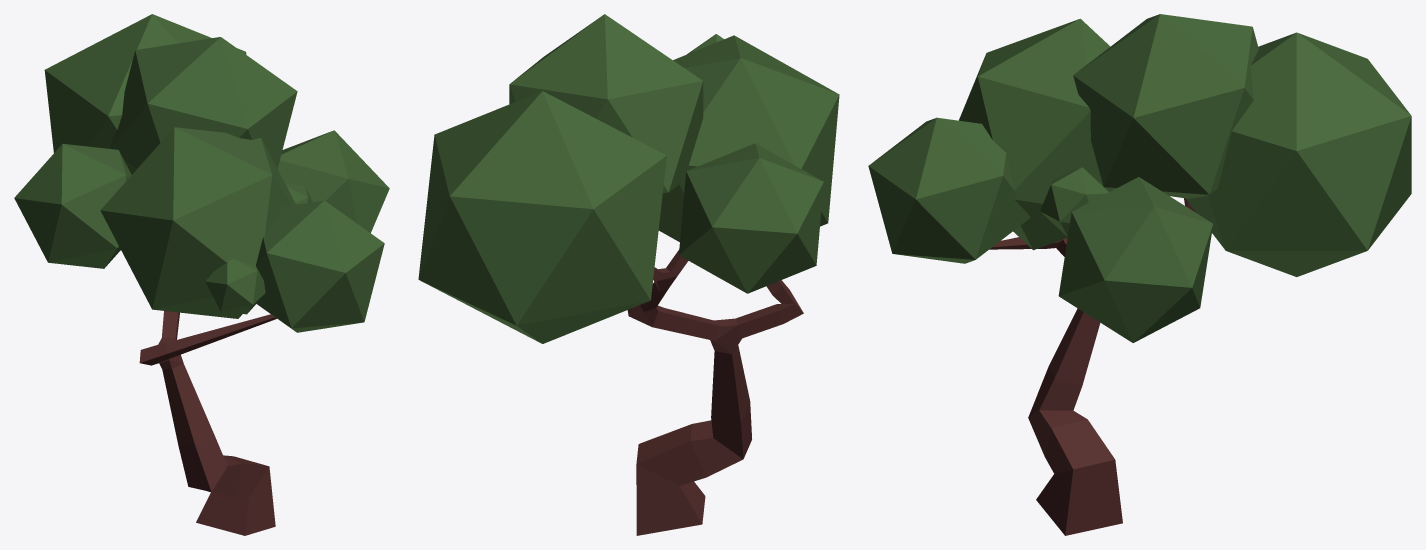
File: Tree_1.fbx
The picture shows the model from 3 angles, left to right: view 1: azimuth 30°, elevation 25°; view 2: azimuth 150°, elevation 25°; view 3: azimuth 270°, elevation 25°; orthographic projection. The views are drawn at different scales.
Visible parts, largest first — view 1: Icosphere.003; view 2: Icosphere.003; view 3: Icosphere.003.
Part boxes in pixels (x1,y1,x2,y2): Icosphere.003: [14, 14, 389, 535]; Icosphere.003: [418, 14, 839, 535]; Icosphere.003: [868, 14, 1411, 535].
Bounding box in the file's own units: 332 × 443 × 423.
